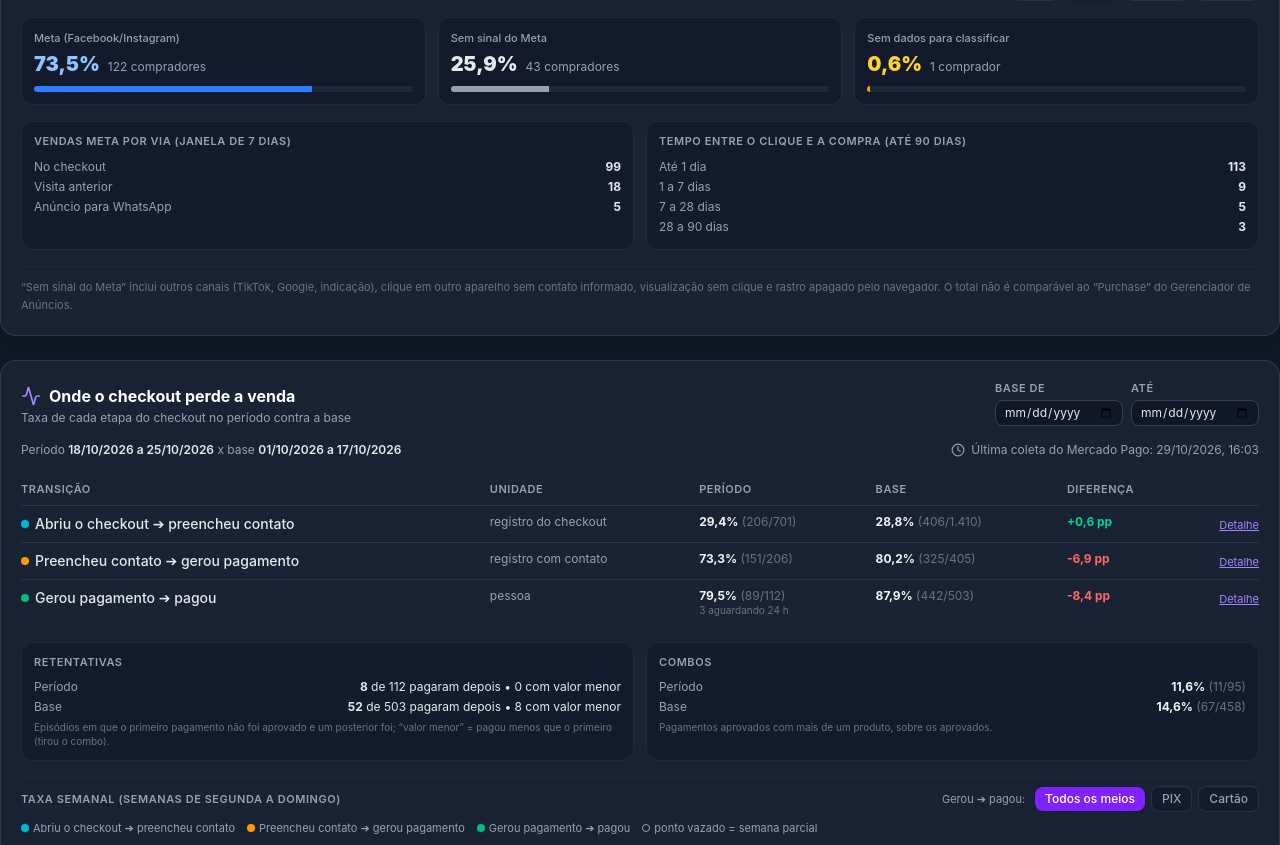
it: LeadsDashboard — Onde o checkout perde a venda (T4) › base escolhida vai ao backend e erro 400 mostra a mensagem
The width and height of the screenshot is (1280, 845).
(page scrolled)
Note: Só uma data da base: nada muda.
Step 1. Type "2026-04-01" into the date field named "Início da base" → (1059, 412), box [995,400,1123,426]
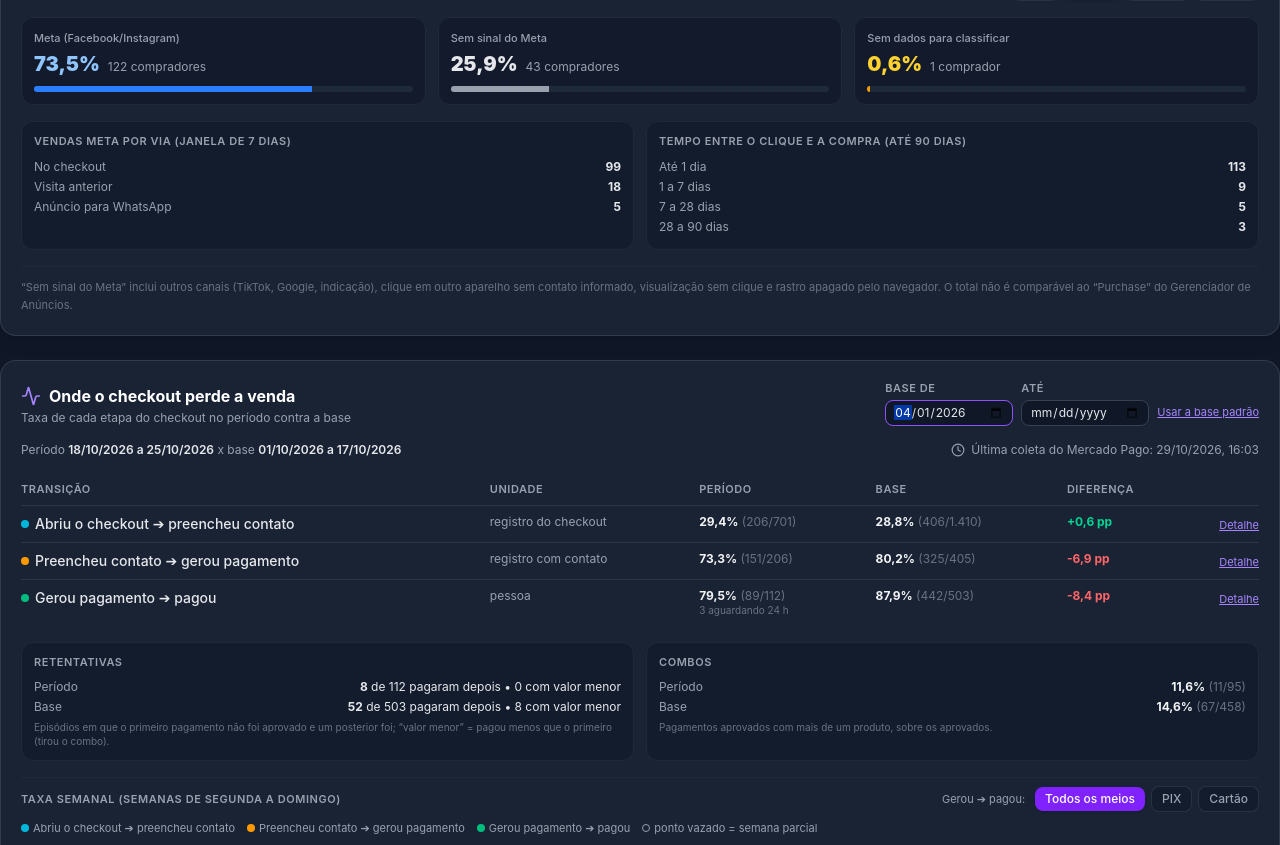
Step 2. Type "2026-10-17" into the date field named "Fim da base" → (1085, 412), box [1021,400,1149,426]
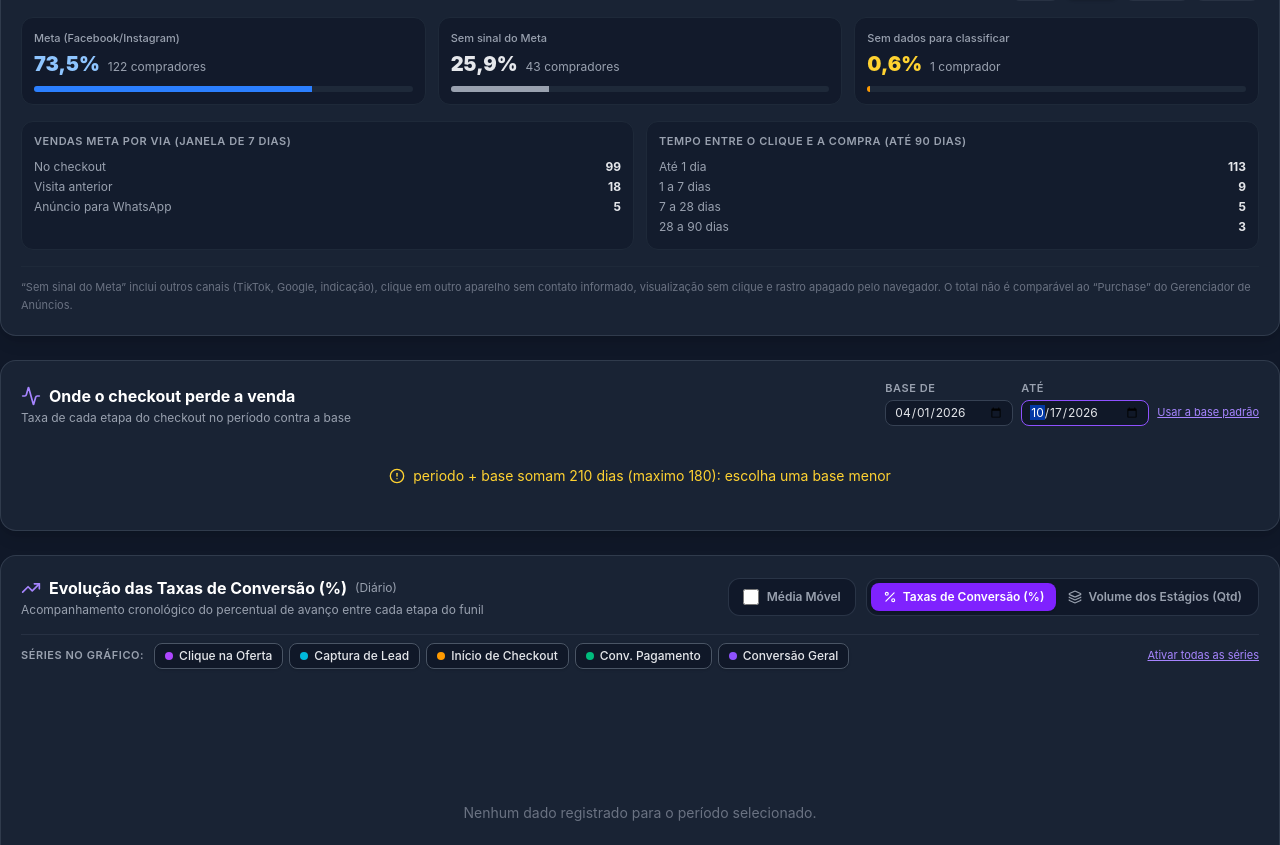
Result: the text "escolha uma base menor" is shown at [413,466,891,484]
Step 3. Click the button "Usar a base padrão" → (1208, 415), box [1157,405,1259,426]
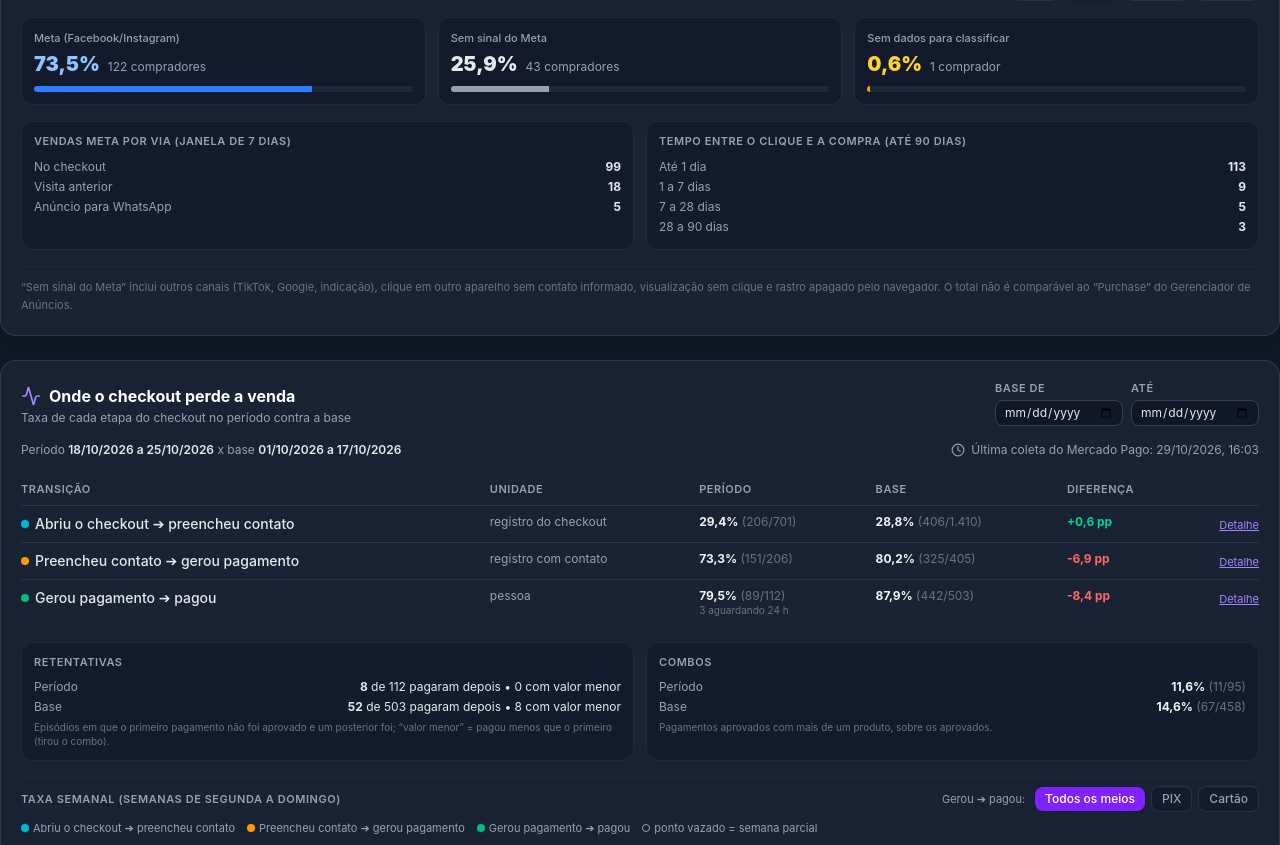
Result: the column heading "Transição" is shown at [21,474,490,506]
